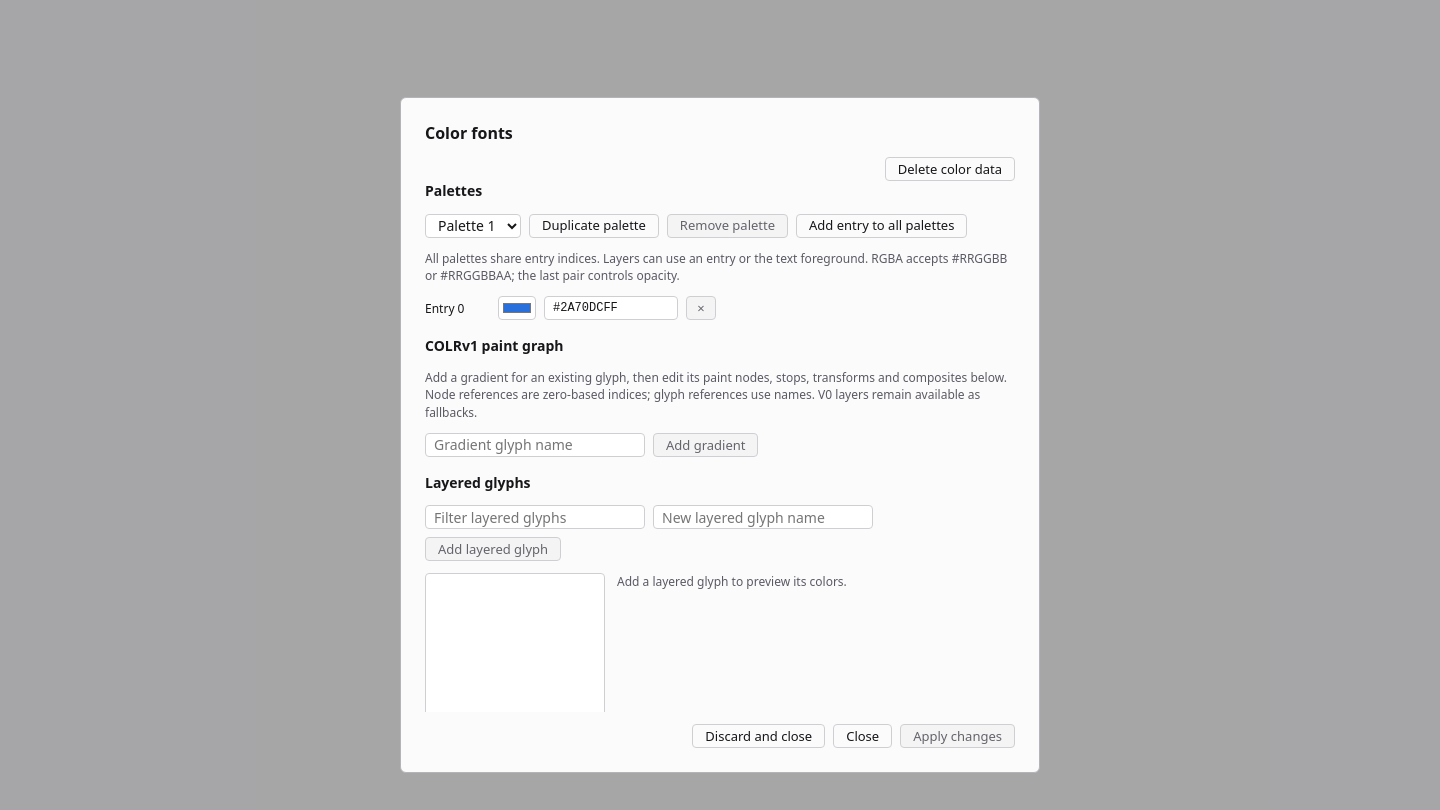
it: keeps a rejected stale draft visible until explicit reload
Replace the text in the field named "Entry 0 RGBA" with "#FF000077": [611, 308] box [544, 296, 678, 320]
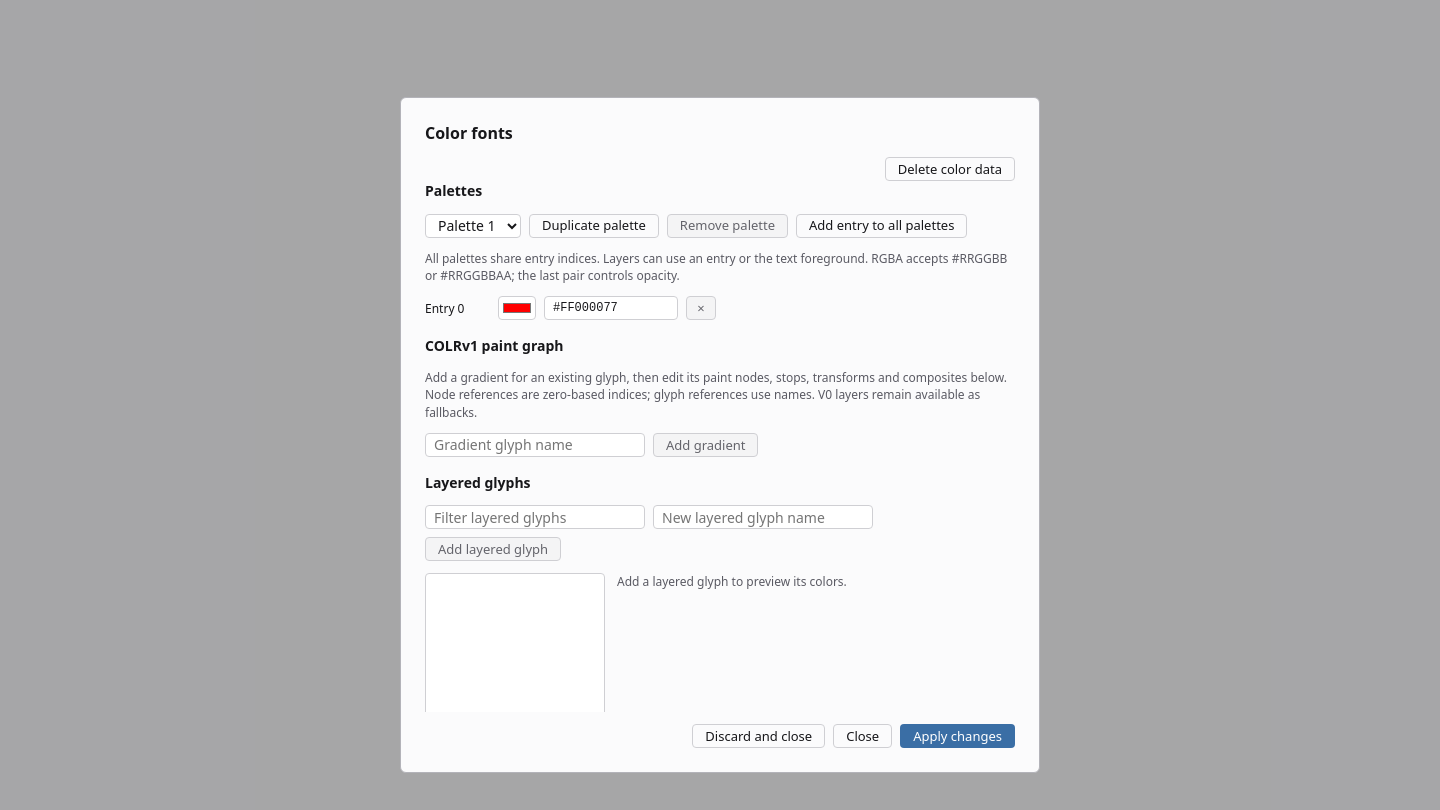
Click the button "Close": [863, 736] box [833, 724, 892, 748]
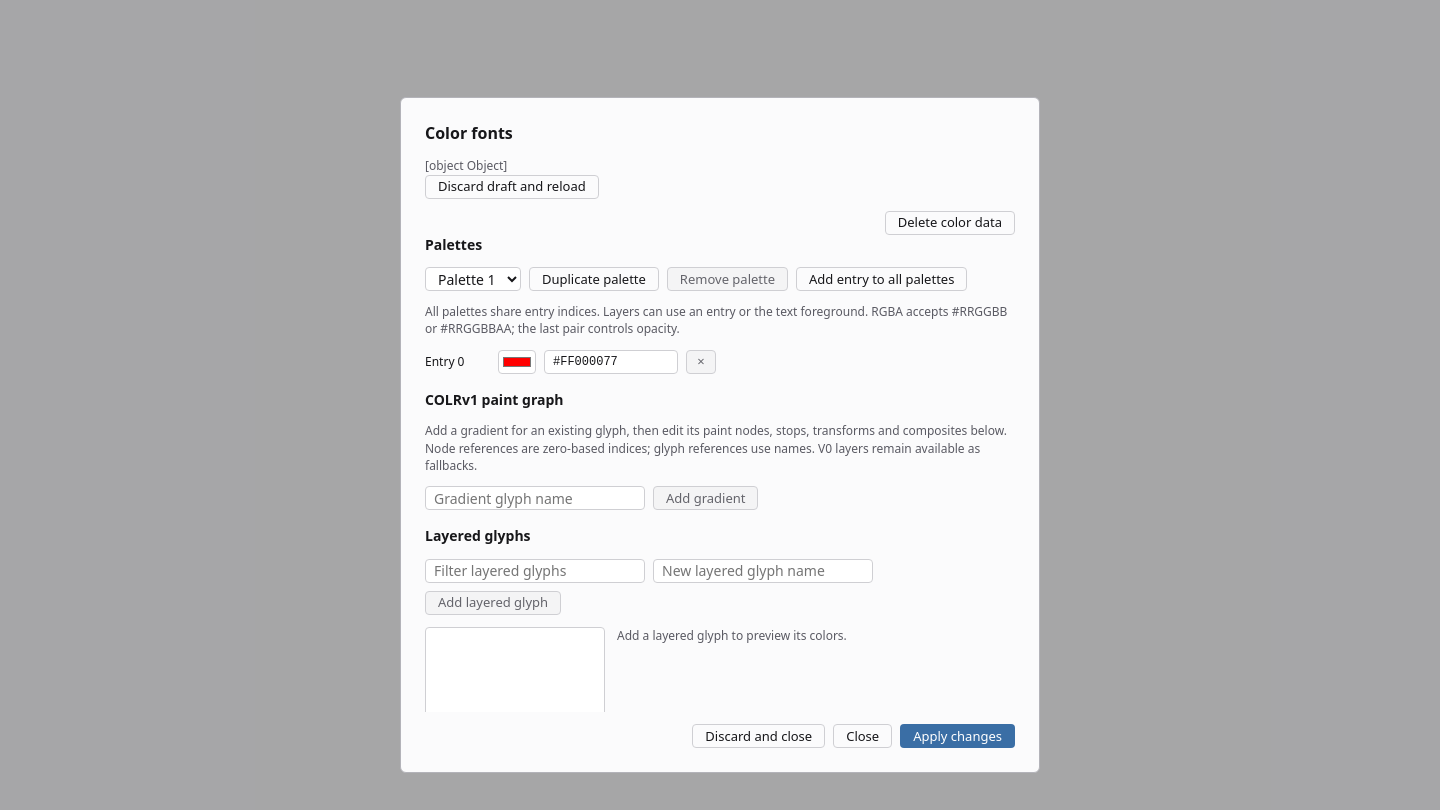
Expected: the message "[object Object] Discard draft and reload" is shown, [425, 157, 599, 199]
Click the button "Discard draft and reload": [512, 187] box [425, 175, 599, 199]
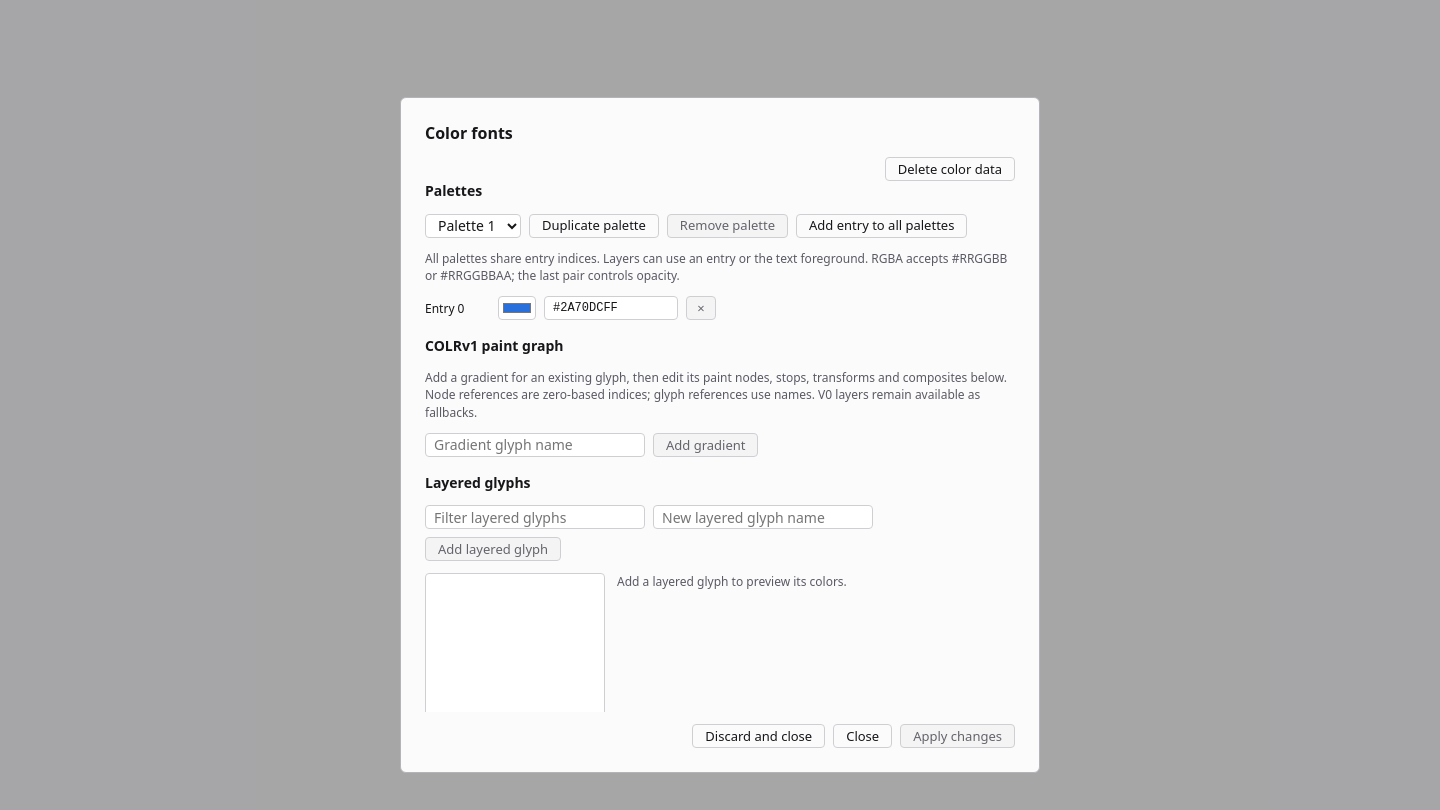
Expected: the field named "Entry 0 RGBA" holds "#2A70DCFF", [544, 296, 678, 320]
